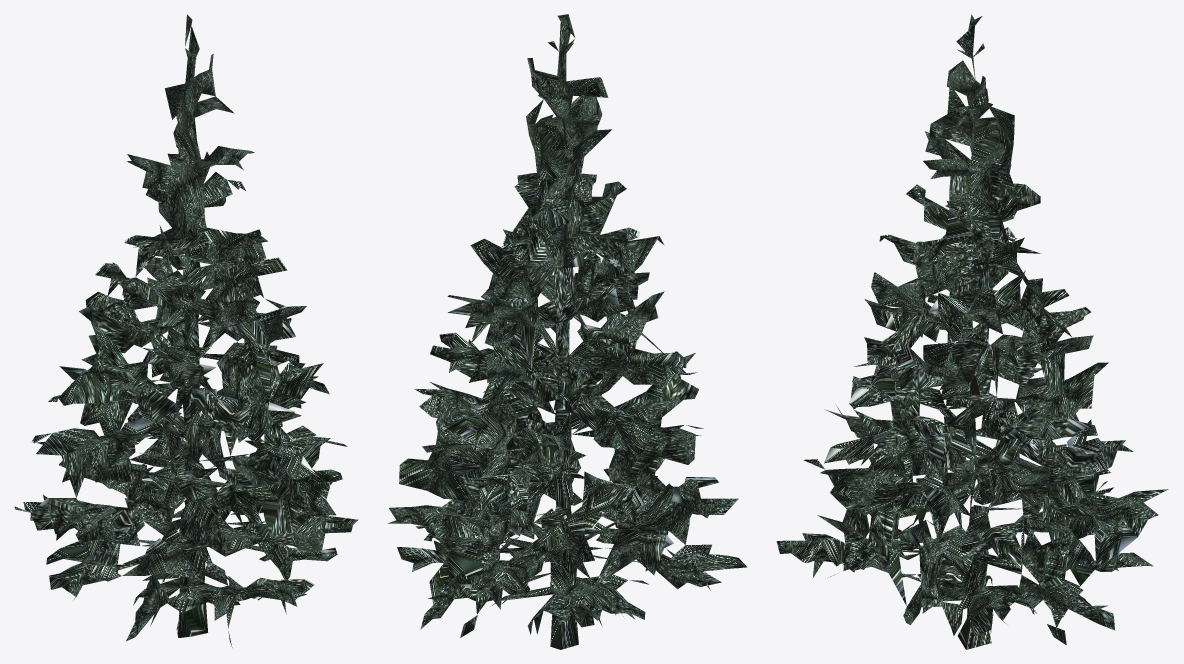
The model's file is pine-low.glb.
The picture shows the model from 3 angles, left to right: view 1: azimuth 30°, elevation 25°; view 2: azimuth 150°, elevation 25°; view 3: azimuth 270°, elevation 25°; orthographic projection. The views are drawn at different scales.
Size of the model in its own units: 0.5291 by 0.9856 by 0.5592.
Materials: 1 (1 with a texture image).
